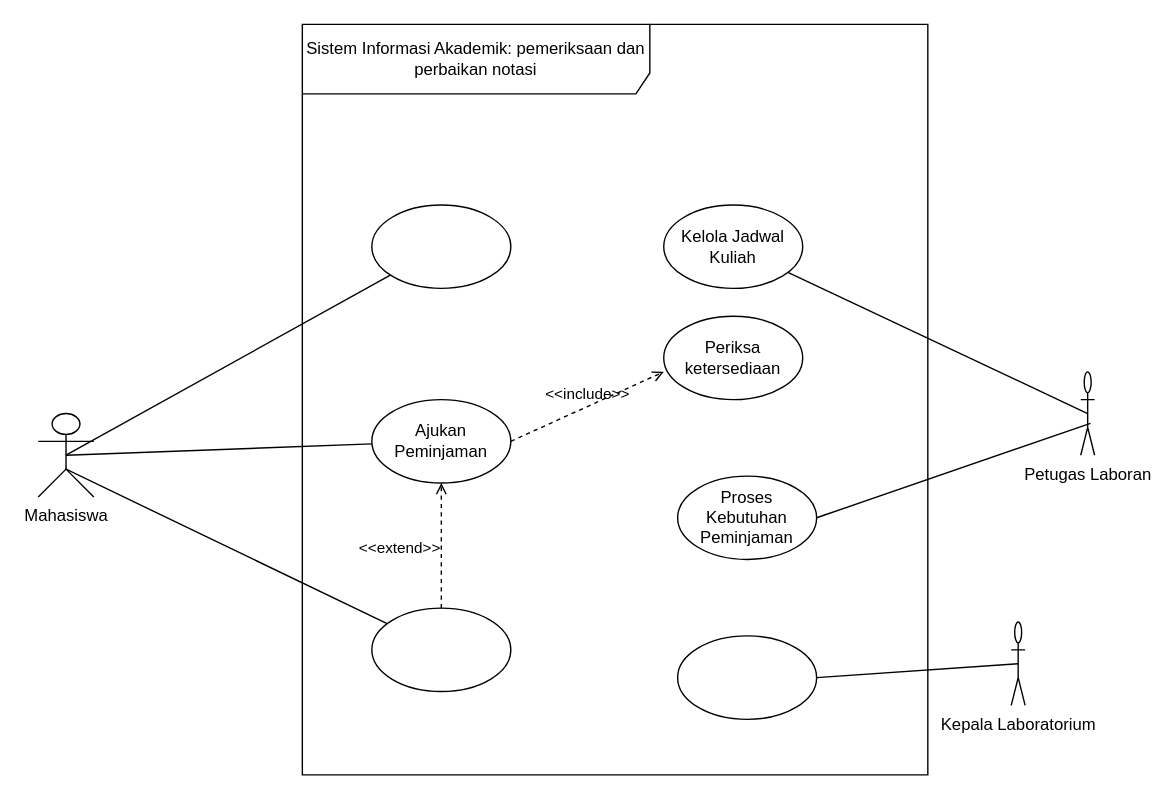
Image size: 1175x799. Some labels were removed from this diagram. The shapes that lost their labels are listed below. From the top down, each one's centre as x and y in pixels, then its label:
At point 440,246: "Lihat ketersediaan peralatan".
At point 440,649: "Cetak bukti Pengajuan".
At point 746,677: "Lihat Laporan Peminjaman".
